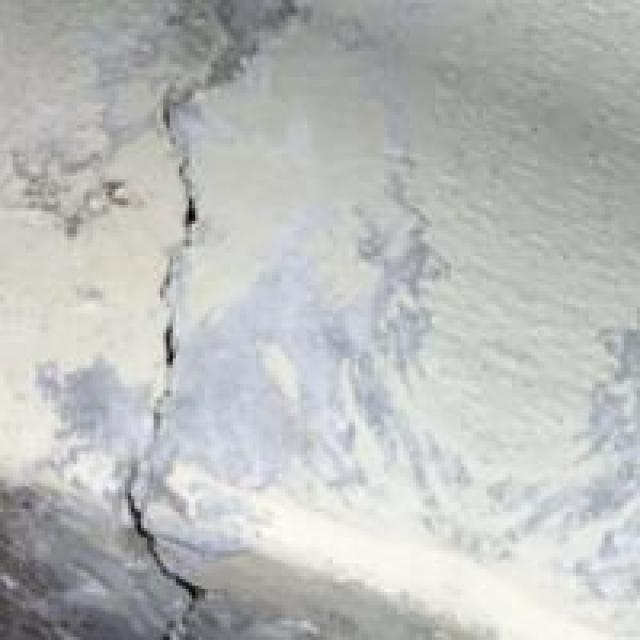Crack: (103, 22, 244, 636)
